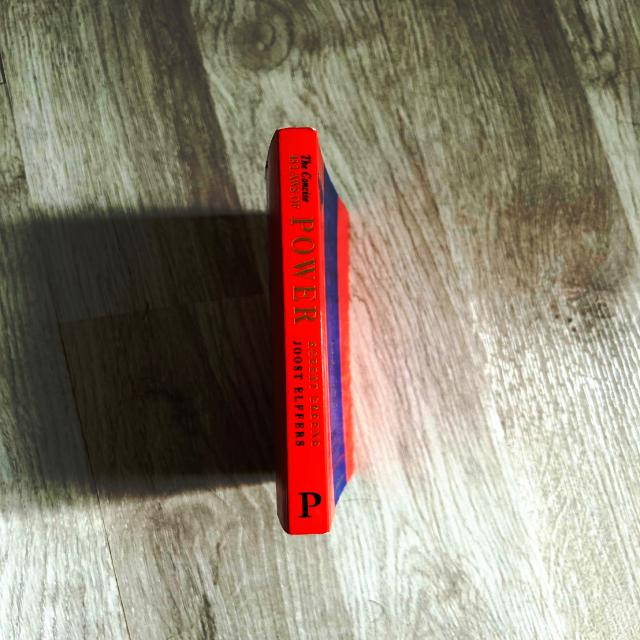Book: (267, 128, 354, 533)
